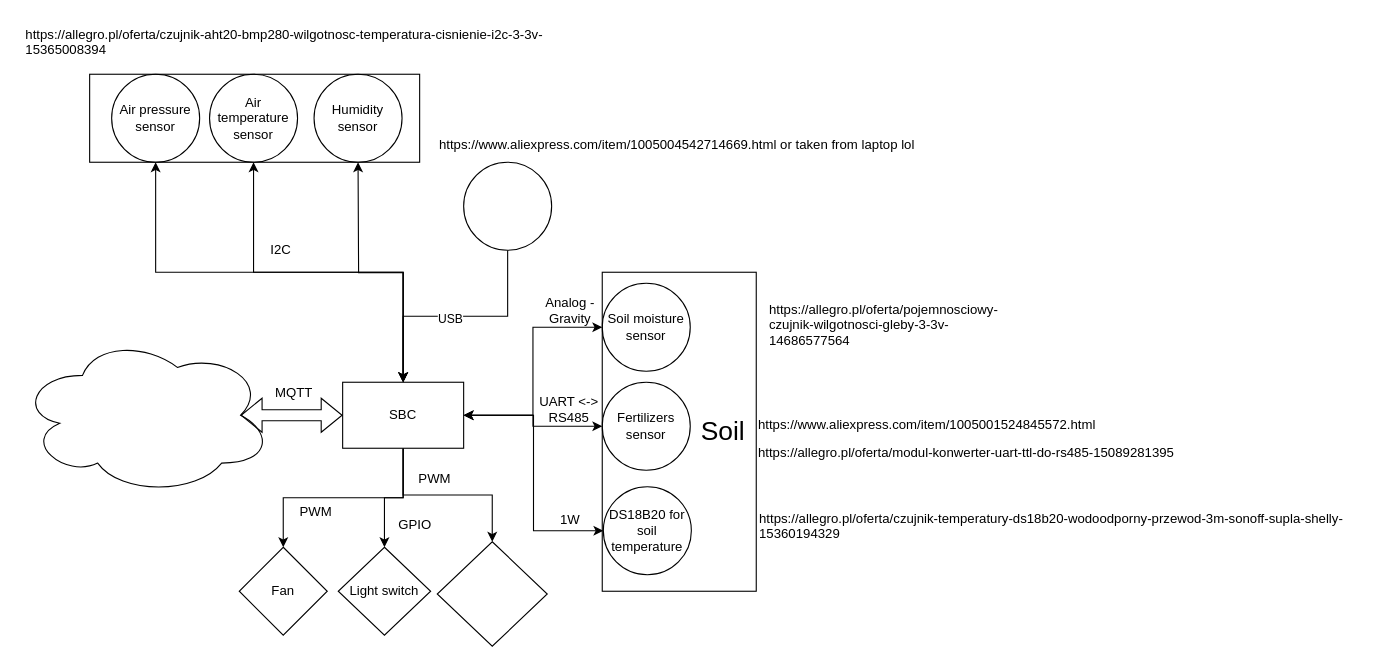
Image size: 1393x666. Some labels were removed from this diagram. The shapes that lost their labels are listed below. From the top down, each one's box as (x1, y1, x2, y2) in pixels, then its label:
(463, 161, 552, 250): UVC camera
(18, 334, 272, 495): Cloud/Self-host
(436, 541, 547, 646): Water pump w/reservoir
